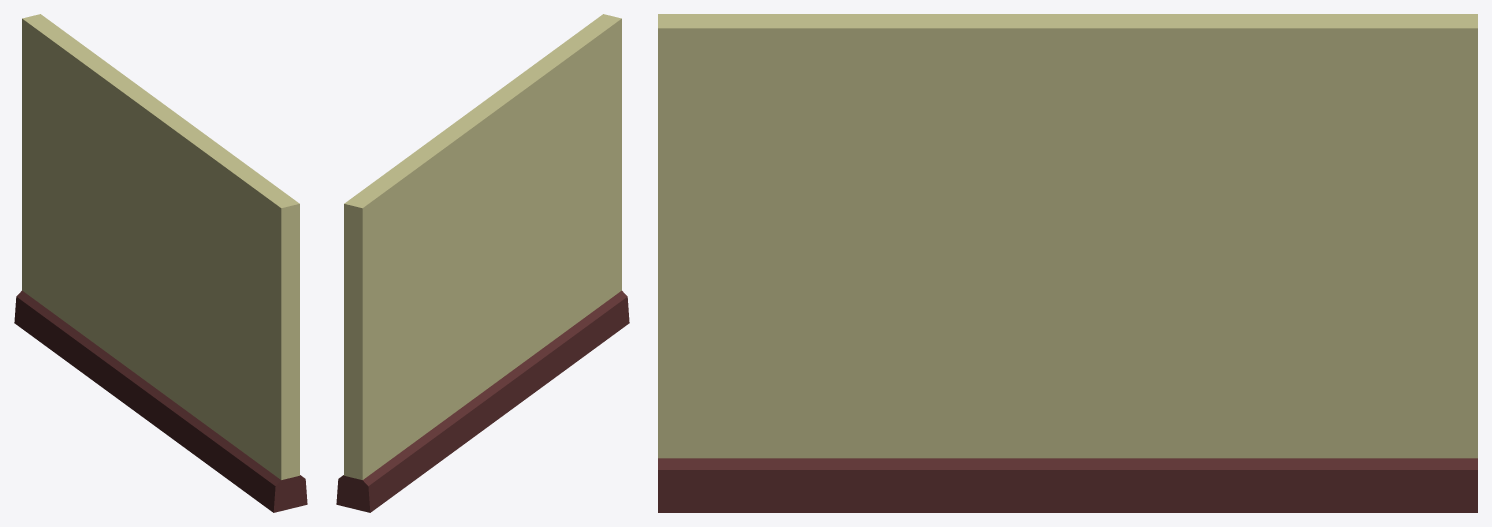
File: Wall.fbx
3 renders of one model, left to right at view 1: azimuth 30°, elevation 25°; view 2: azimuth 150°, elevation 25°; view 3: azimuth 270°, elevation 25°, orthographic. The views are drawn at different scales.
Parts seen in each view (by area): view 1: Wall; view 2: Wall; view 3: Wall.
Boxes of the visible parts, x1,y1,x2,y2 form: Wall: (14,14,307,512); Wall: (336,14,629,512); Wall: (658,14,1477,512).
Size of the model in its own units: 1.02 by 8.73 by 13.55.
